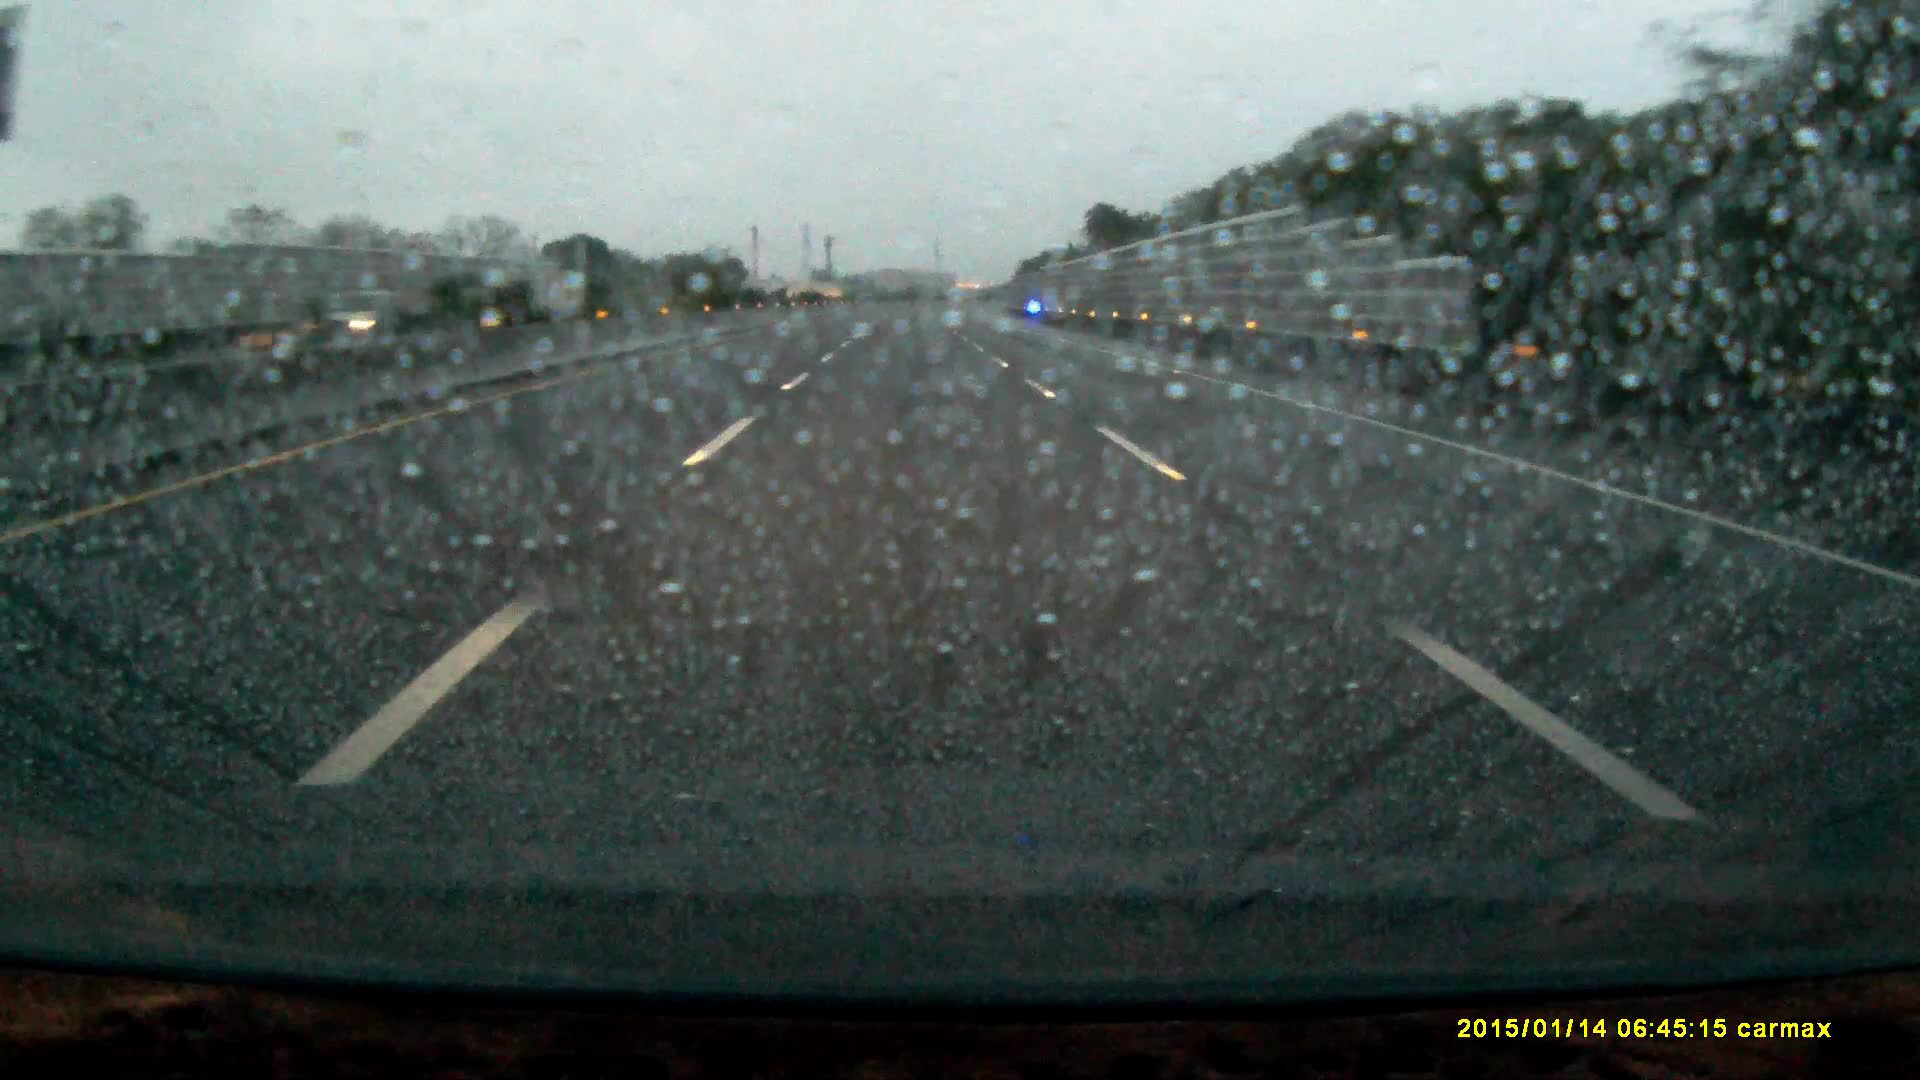vehicle: (309, 290, 402, 335)
